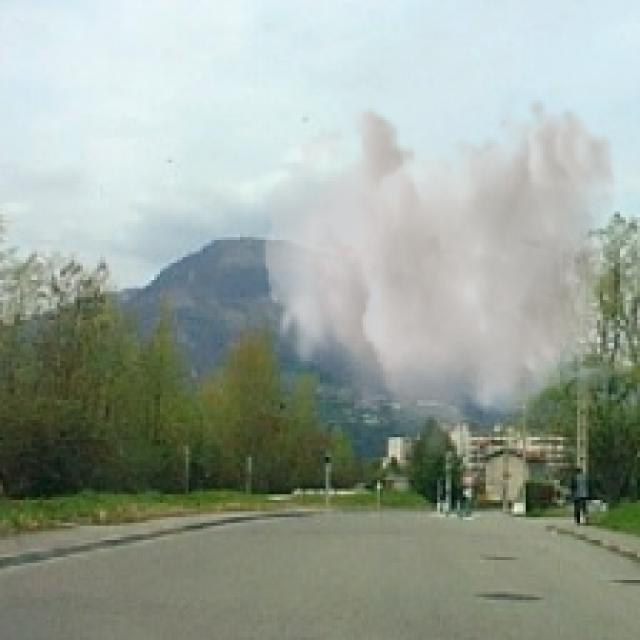smoke: (263, 94, 617, 466)
